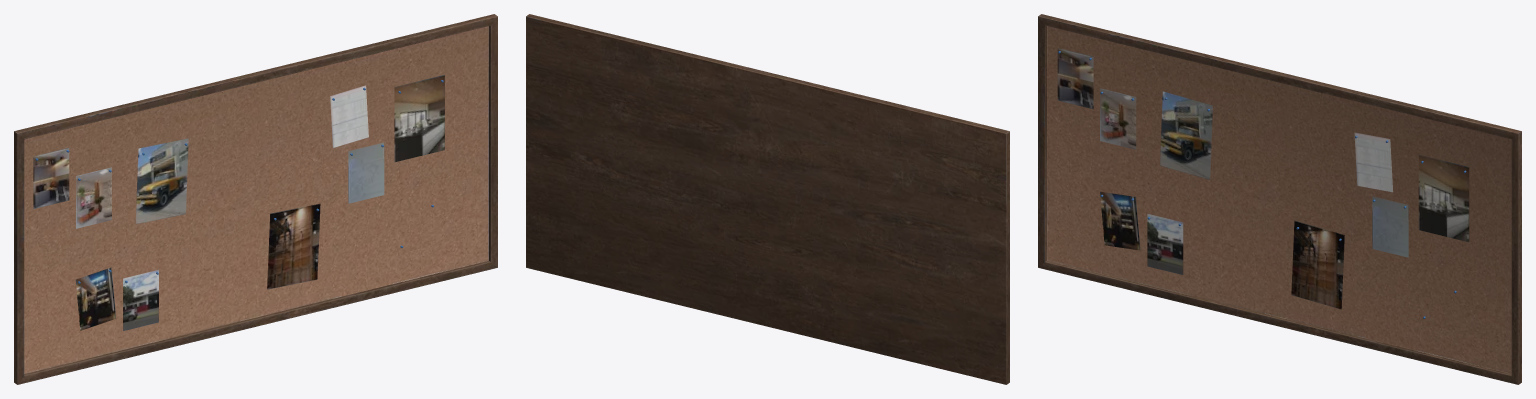
File: cork-board.glb
The picture shows the model from 3 angles, left to right: view 1: azimuth 30°, elevation 25°; view 2: azimuth 150°, elevation 25°; view 3: azimuth 330°, elevation 25°; orthographic projection.
Visible parts, largest first — view 1: CorkBoard_Material_0; view 2: CorkBoard_Material_0; view 3: CorkBoard_Material_0.
Boxes of the visible parts, left/top/right/bottom form: CorkBoard_Material_0: left=14, top=14, right=497, bottom=384; CorkBoard_Material_0: left=526, top=14, right=1009, bottom=384; CorkBoard_Material_0: left=1038, top=14, right=1521, bottom=384.
Bounding box in the file's own units: 0.9 × 0.4501 × 0.0112.
1 material, 1 textured.
